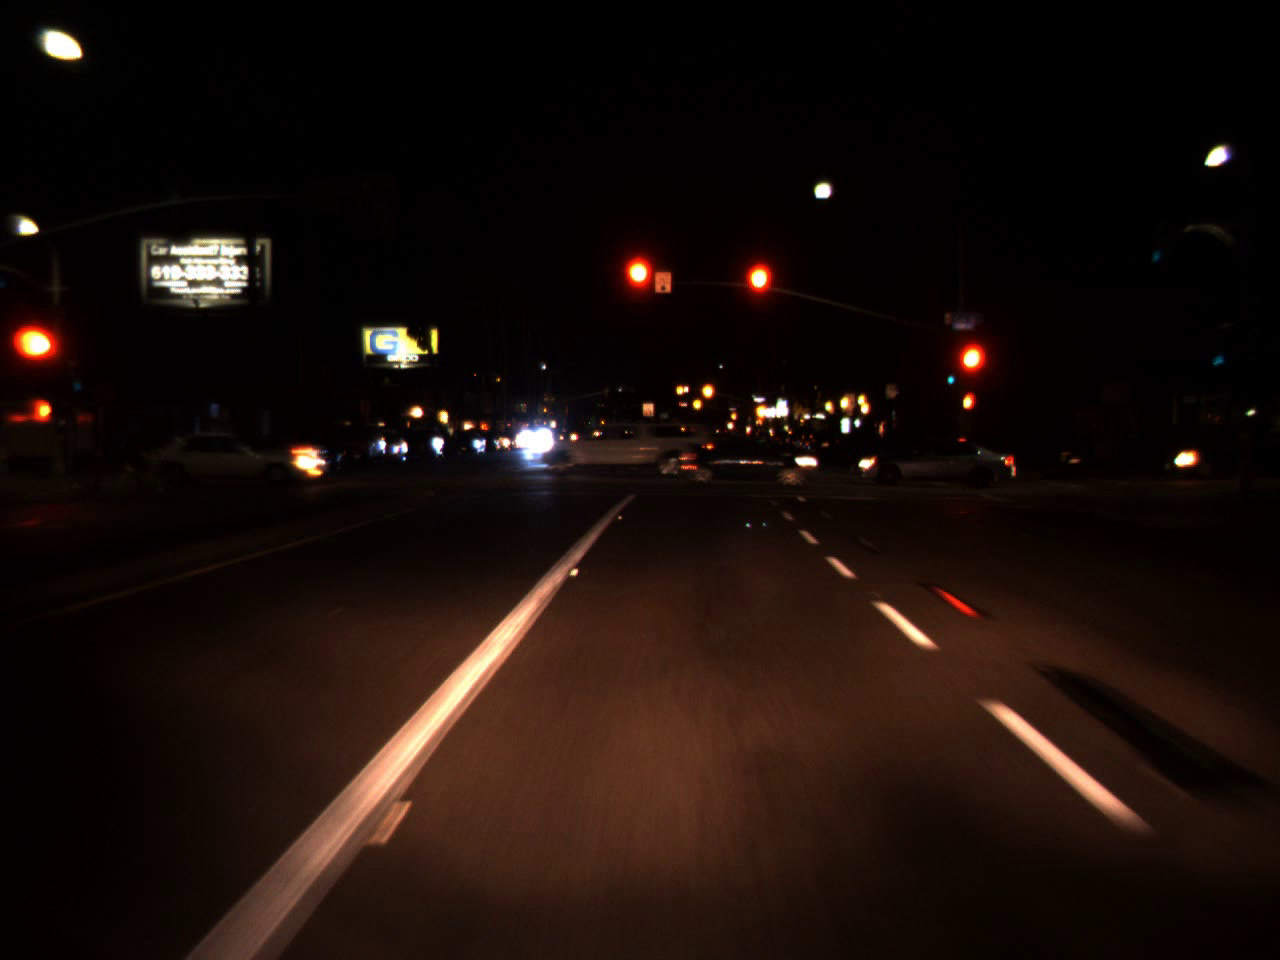stop: (16, 324, 59, 391), (619, 253, 656, 328), (953, 337, 990, 412), (742, 257, 776, 332)
warning: (753, 396, 768, 426), (700, 378, 713, 403), (693, 392, 702, 414), (731, 409, 737, 424)
